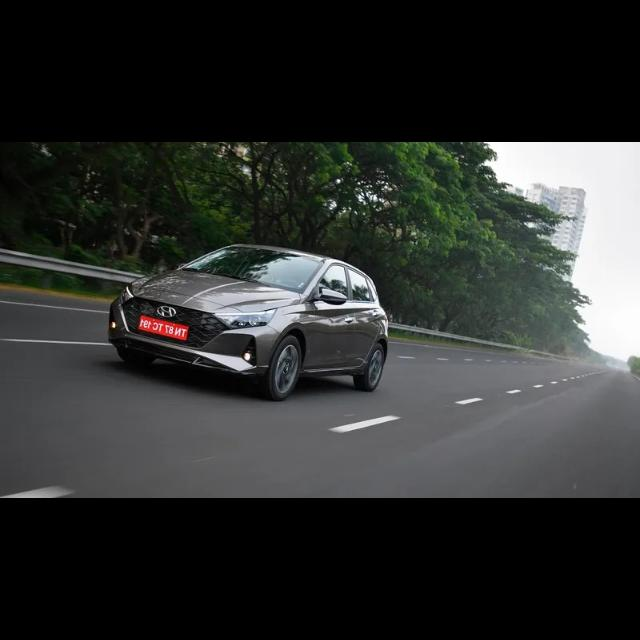vehicles: (113, 245, 391, 399)
